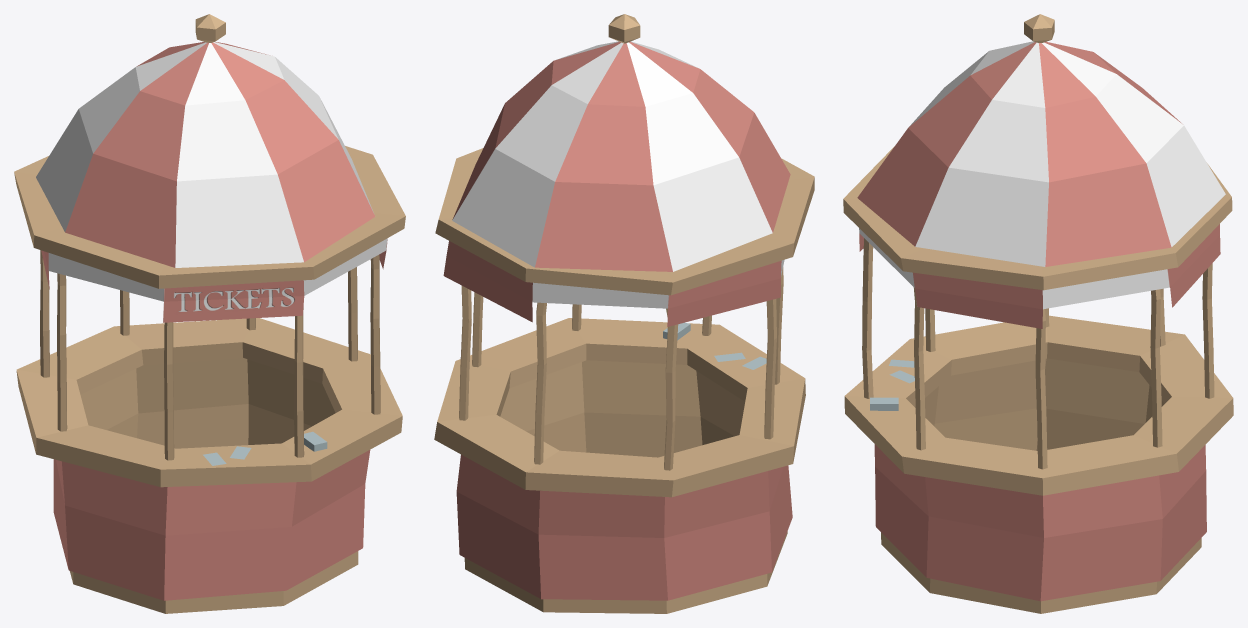
File: Ticketera.fbx
3 views of the same model, side by side, from view 1: azimuth 30°, elevation 25°; view 2: azimuth 150°, elevation 25°; view 3: azimuth 270°, elevation 25° (orthographic).
Parts seen in each view (by area): view 1: tickets_window; view 2: tickets_window; view 3: tickets_window.
Boxes of the visible parts, <box> form: tickets_window: <box>14,14,405,613</box>; tickets_window: <box>434,14,814,613</box>; tickets_window: <box>843,14,1233,613</box>.
Size of the model in its own units: 236 by 357 by 236.
Materials: 1 (1 with a texture image).
